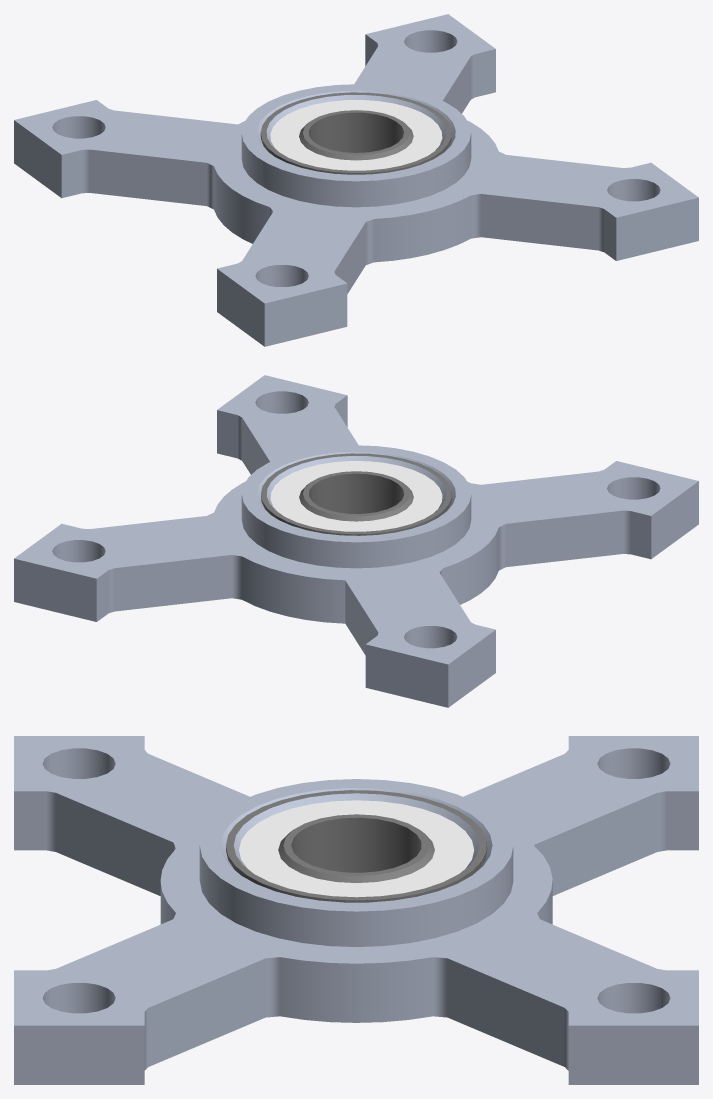
Rendered from ROB-12328.obj.
3 views of the same model, one above another, from view 1: azimuth 30°, elevation 25°; view 2: azimuth 150°, elevation 25°; view 3: azimuth 270°, elevation 25° (orthographic). The views are drawn at different scales.
Visible parts, largest first — view 1: mesh 1 RO, mesh 2 Boss-Extrude3, mesh 3 Boss-Extrude4; view 2: mesh 1 RO, mesh 2 Boss-Extrude3, mesh 3 Boss-Extrude4; view 3: mesh 1 RO, mesh 2 Boss-Extrude3, mesh 3 Boss-Extrude4.
Boxes of the visible parts, x1,y1,x2,y2 form: mesh 1 RO: (14, 14, 698, 346); mesh 2 Boss-Extrude3: (260, 92, 451, 174); mesh 3 Boss-Extrude4: (270, 100, 442, 170); mesh 1 RO: (14, 375, 698, 707); mesh 2 Boss-Extrude3: (261, 453, 451, 535); mesh 3 Boss-Extrude4: (270, 461, 442, 531); mesh 1 RO: (14, 736, 698, 1084); mesh 2 Boss-Extrude3: (226, 790, 487, 902); mesh 3 Boss-Extrude4: (239, 800, 473, 897).
Size of the model in its own units: 0.0333 by 0.00508 by 0.0333.
